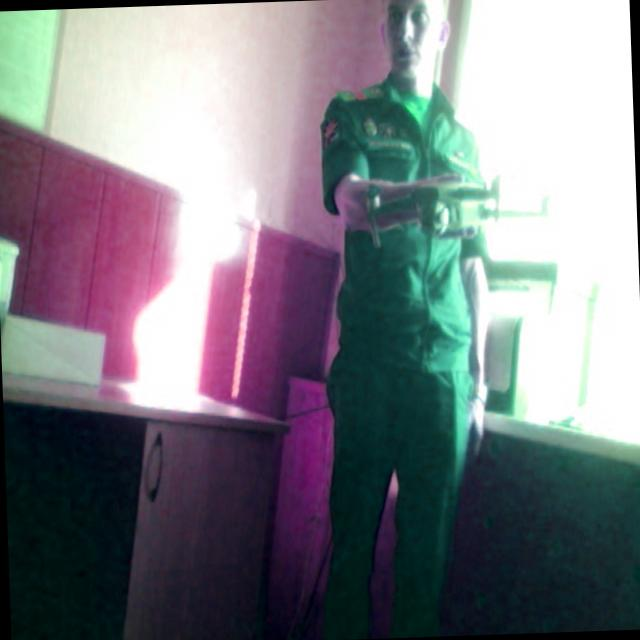drone: (349, 157, 562, 272)
